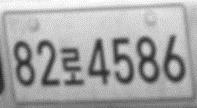2: (36, 39, 60, 86)
4: (86, 37, 111, 84)
5: (112, 36, 135, 83)
6: (163, 34, 186, 83)
8: (135, 35, 159, 84), (12, 40, 35, 86)
로: (60, 47, 85, 85)
